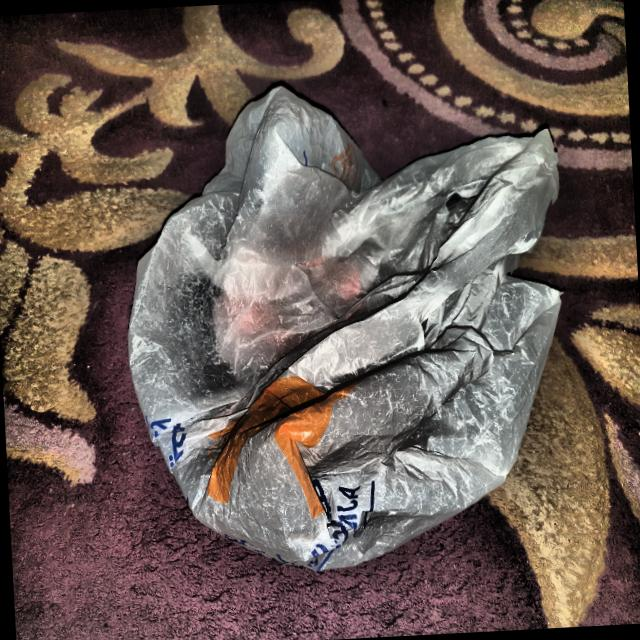plastic bag: (105, 62, 588, 590)
